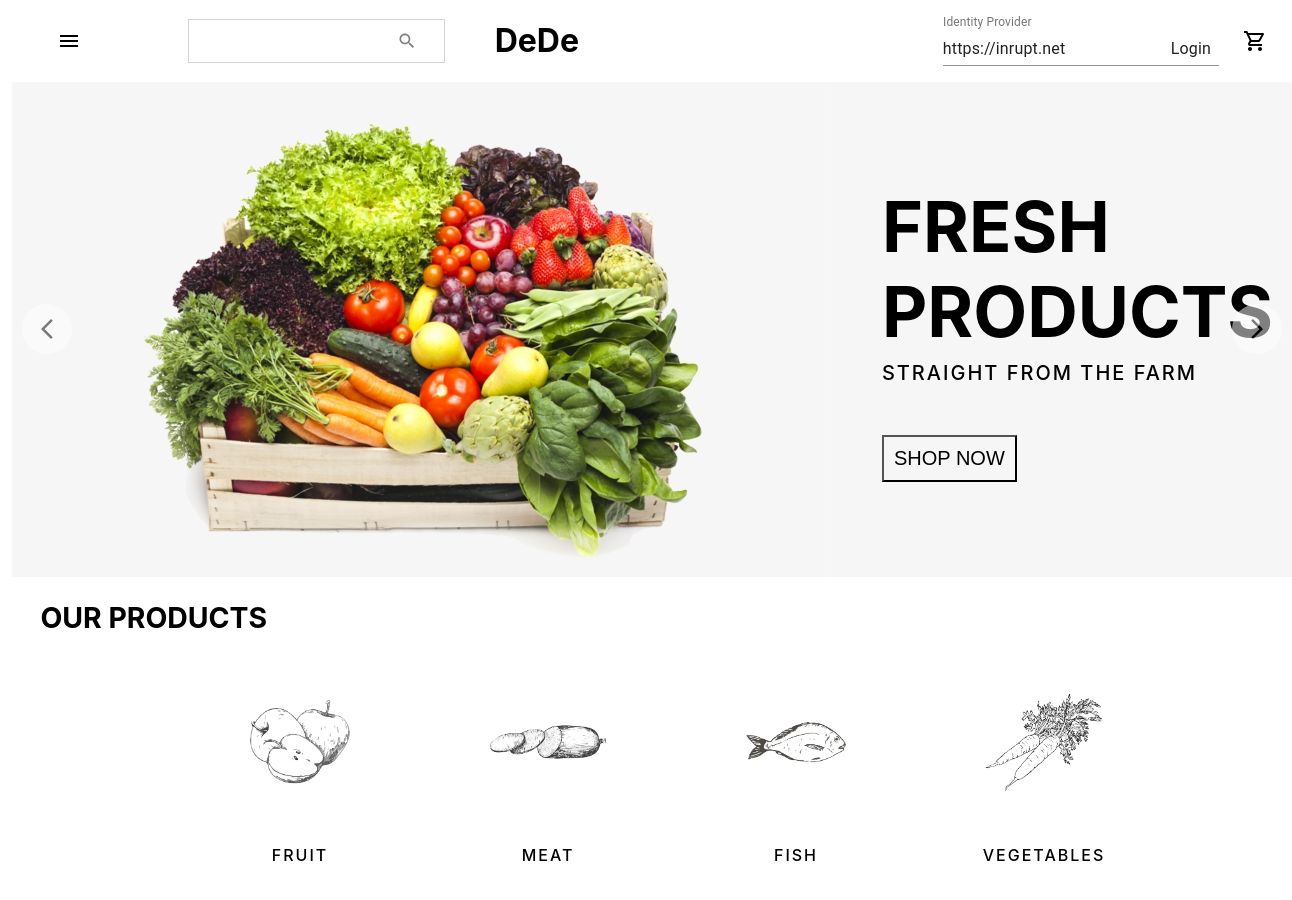
check that sidebar is properly rendered
Click the button with test id "sidebar" at (69, 41), box [49,21,89,61]
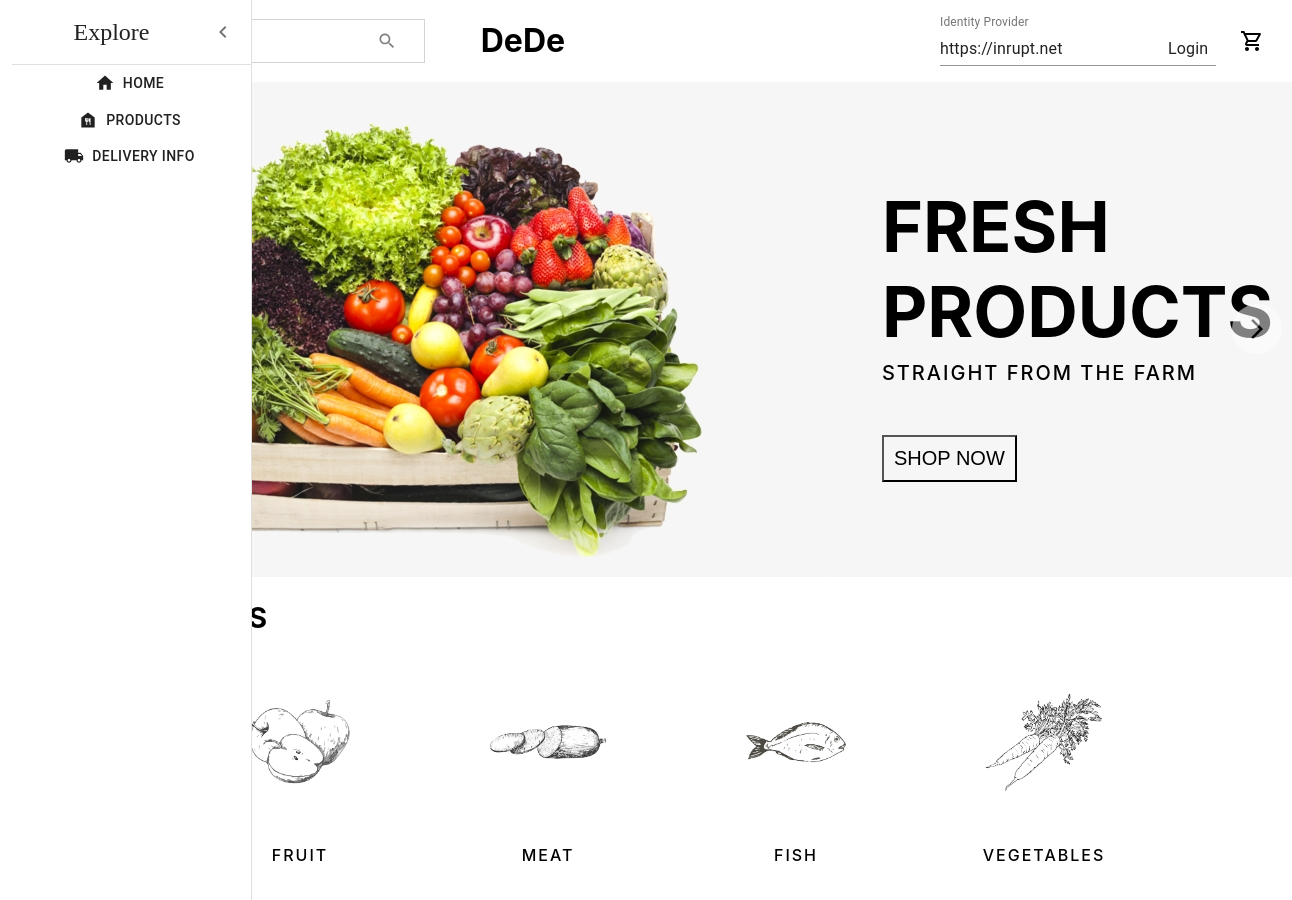
Now the link "Home" is shown, box [95,73,164,93]
Now the link "Products" is shown, box [78,110,181,130]
Now the link "Delivery info" is shown, box [64,146,195,166]
